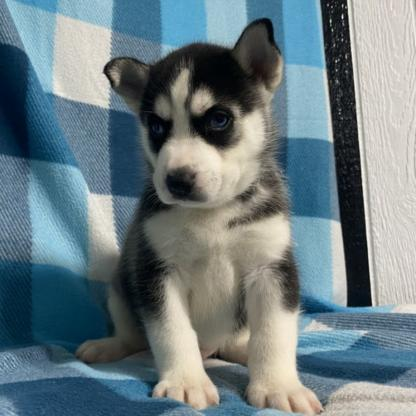dog: (79, 15, 325, 416)
